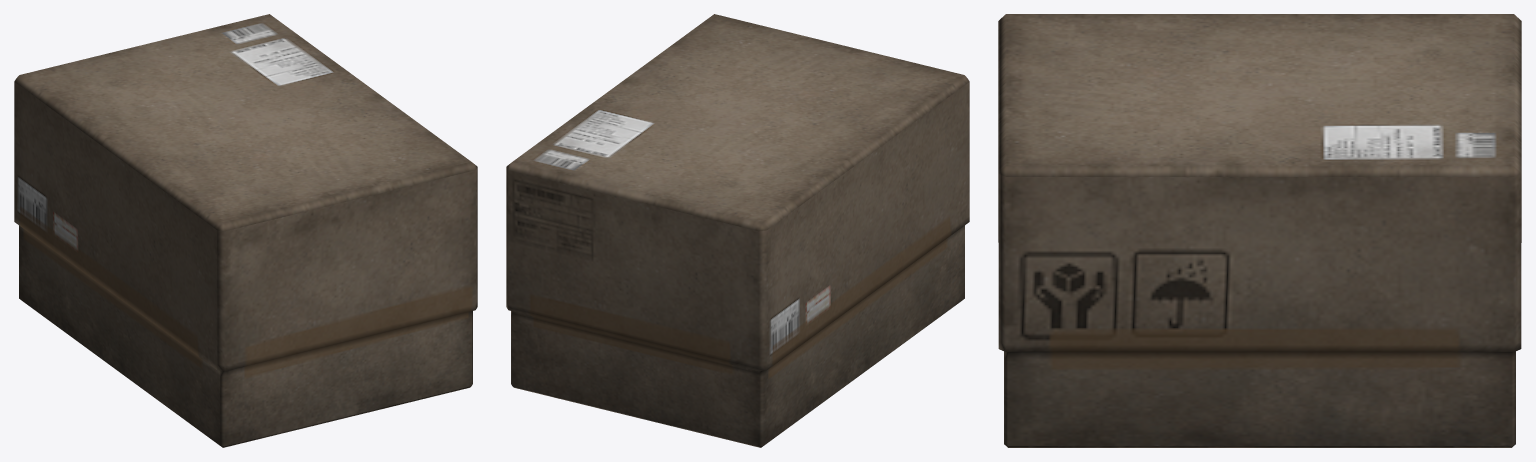
The model's file is Pack_05.fbx.
The picture shows the model from 3 angles, left to right: view 1: azimuth 30°, elevation 25°; view 2: azimuth 150°, elevation 25°; view 3: azimuth 270°, elevation 25°; orthographic projection. The views are drawn at different scales.
Visible parts, largest first — view 1: polySurface12; view 2: polySurface12; view 3: polySurface12.
Boxes of the visible parts, box(x1,y1,x2,y2) form: polySurface12: box(14, 14, 477, 447); polySurface12: box(506, 14, 969, 447); polySurface12: box(998, 14, 1521, 447).
Bounding box in the file's own units: 39.89 × 32.96 × 55.39.
